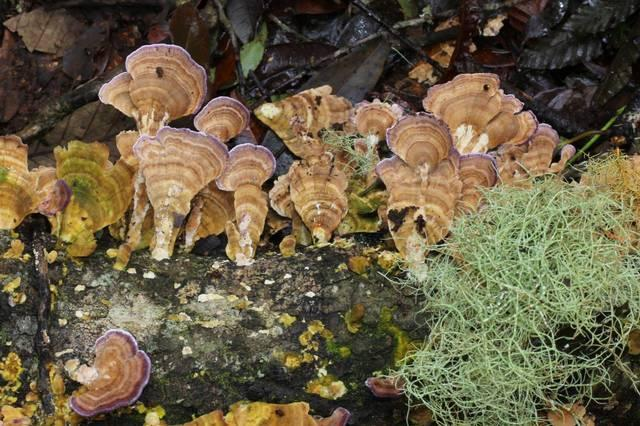poisonous_mushroom: (3, 71, 563, 255), (97, 42, 208, 135), (67, 327, 151, 418)
